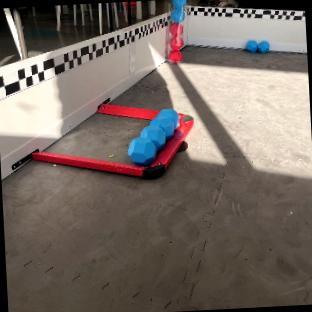V5_BLUE: (128, 108, 178, 164), (149, 108, 177, 137), (171, 0, 184, 22), (258, 41, 269, 52), (246, 41, 257, 51)
V5_RED: (169, 22, 182, 48), (168, 47, 181, 61)
